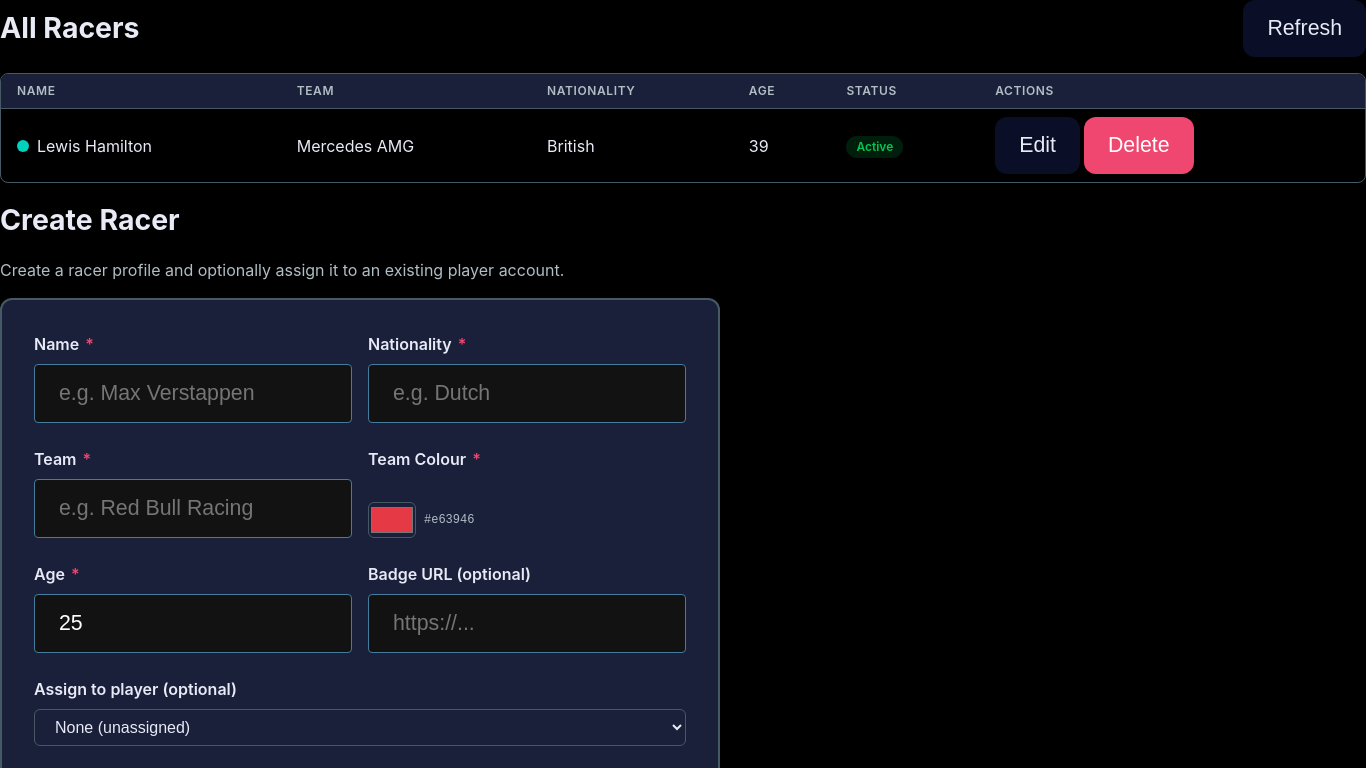
Test case: RacerManagementTab › Edit racer › updates the racer, closes the modal, and refetches the list after a successful edit
The width and height of the screenshot is (1366, 768).
Click the button "Edit" at (1038, 146), box [995, 117, 1080, 174]
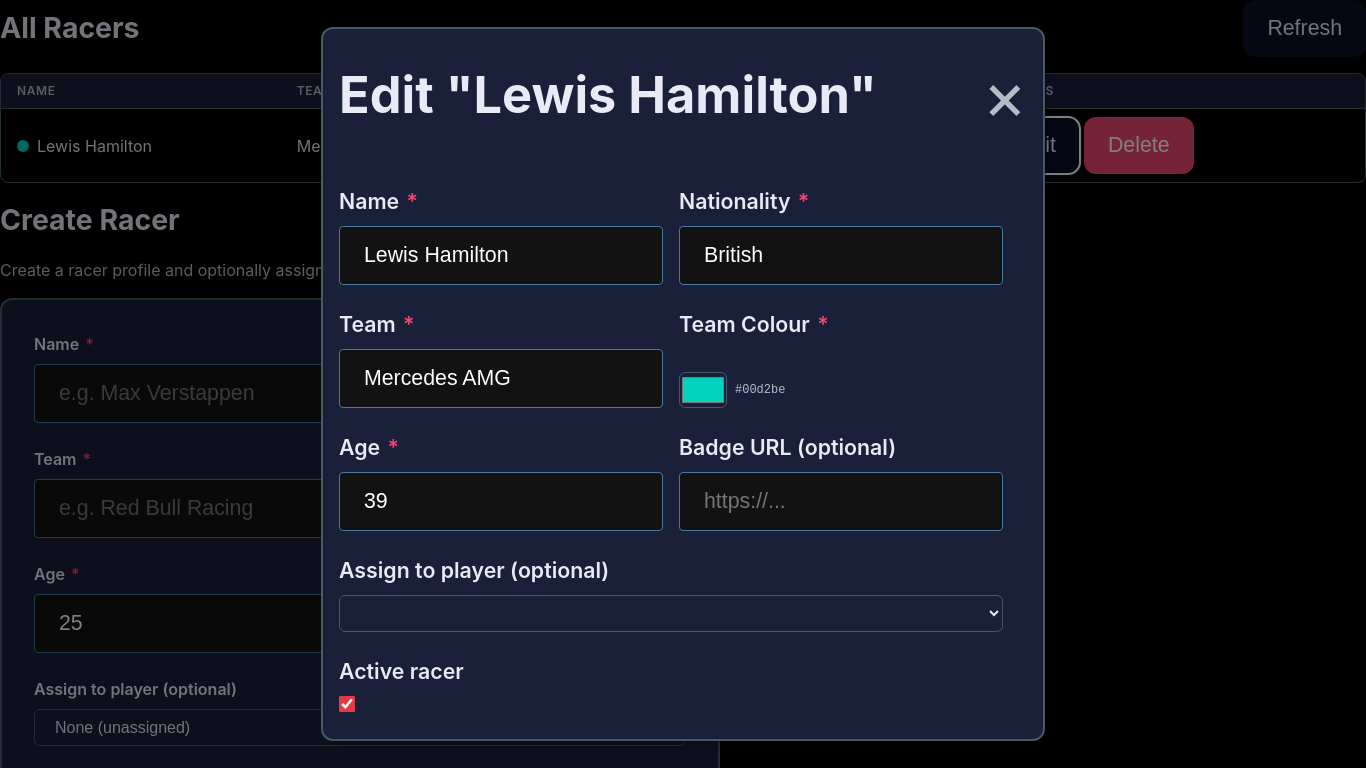
Replace the text in the 1st field with placeholder "e.g. Max Verstappen" with "Lewis Hamilton II" at (501, 255), box [339, 226, 663, 285]
(page scrolled)
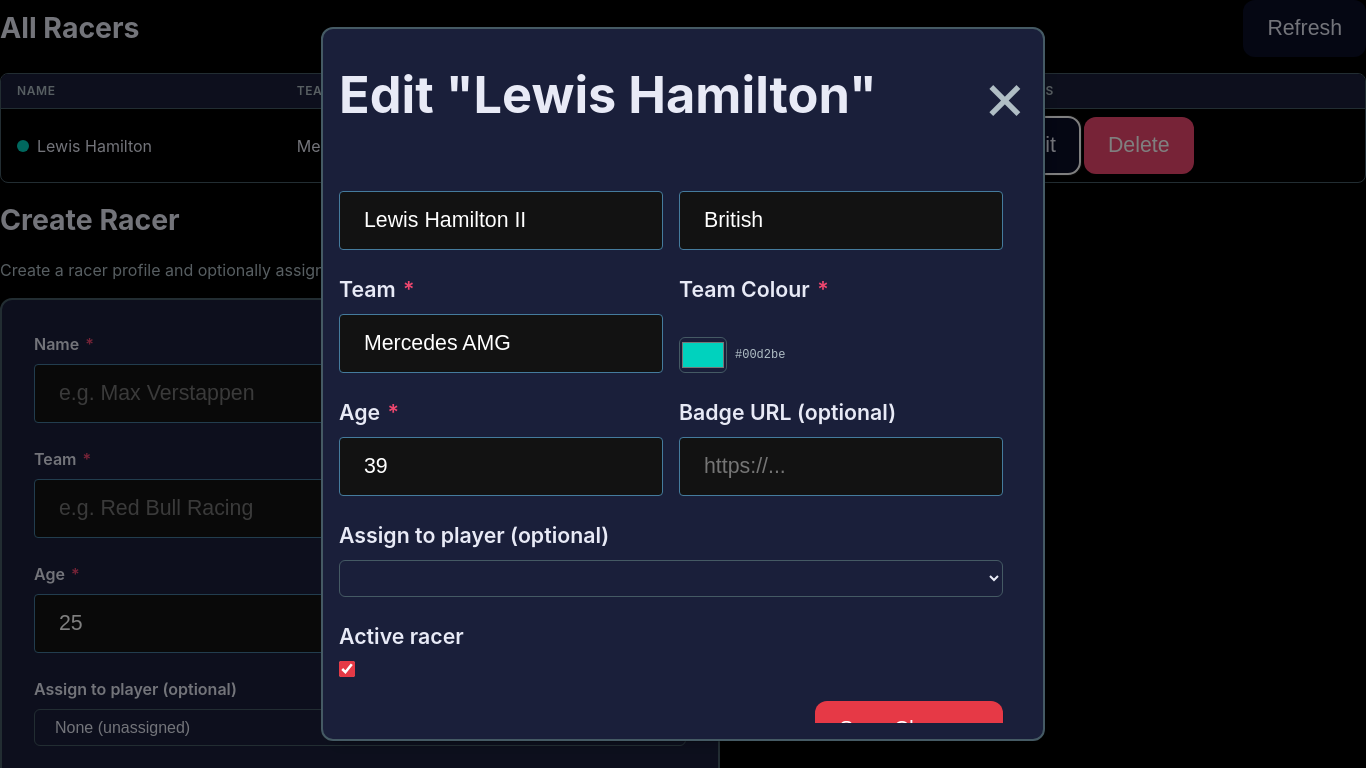
Submit the form, box [339, 151, 1003, 758]
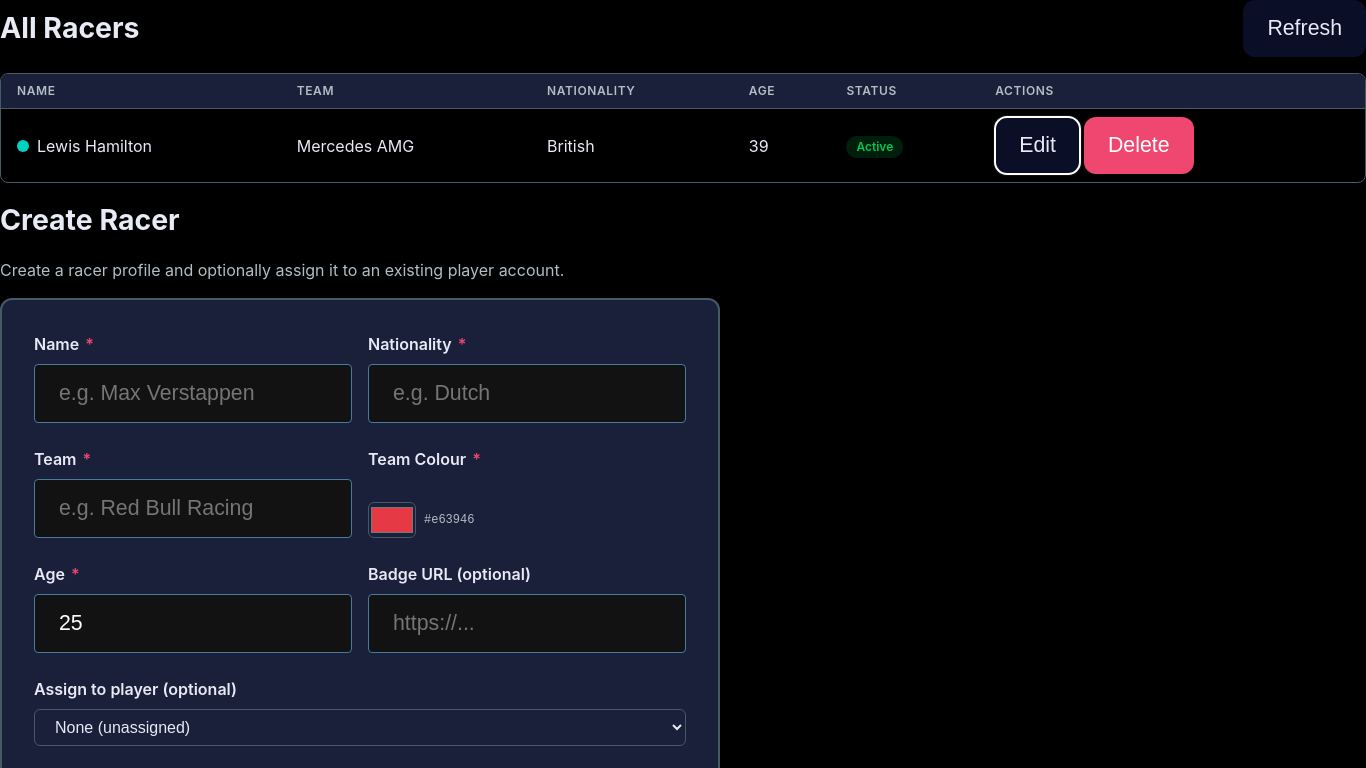
Expected: the dialog is gone
